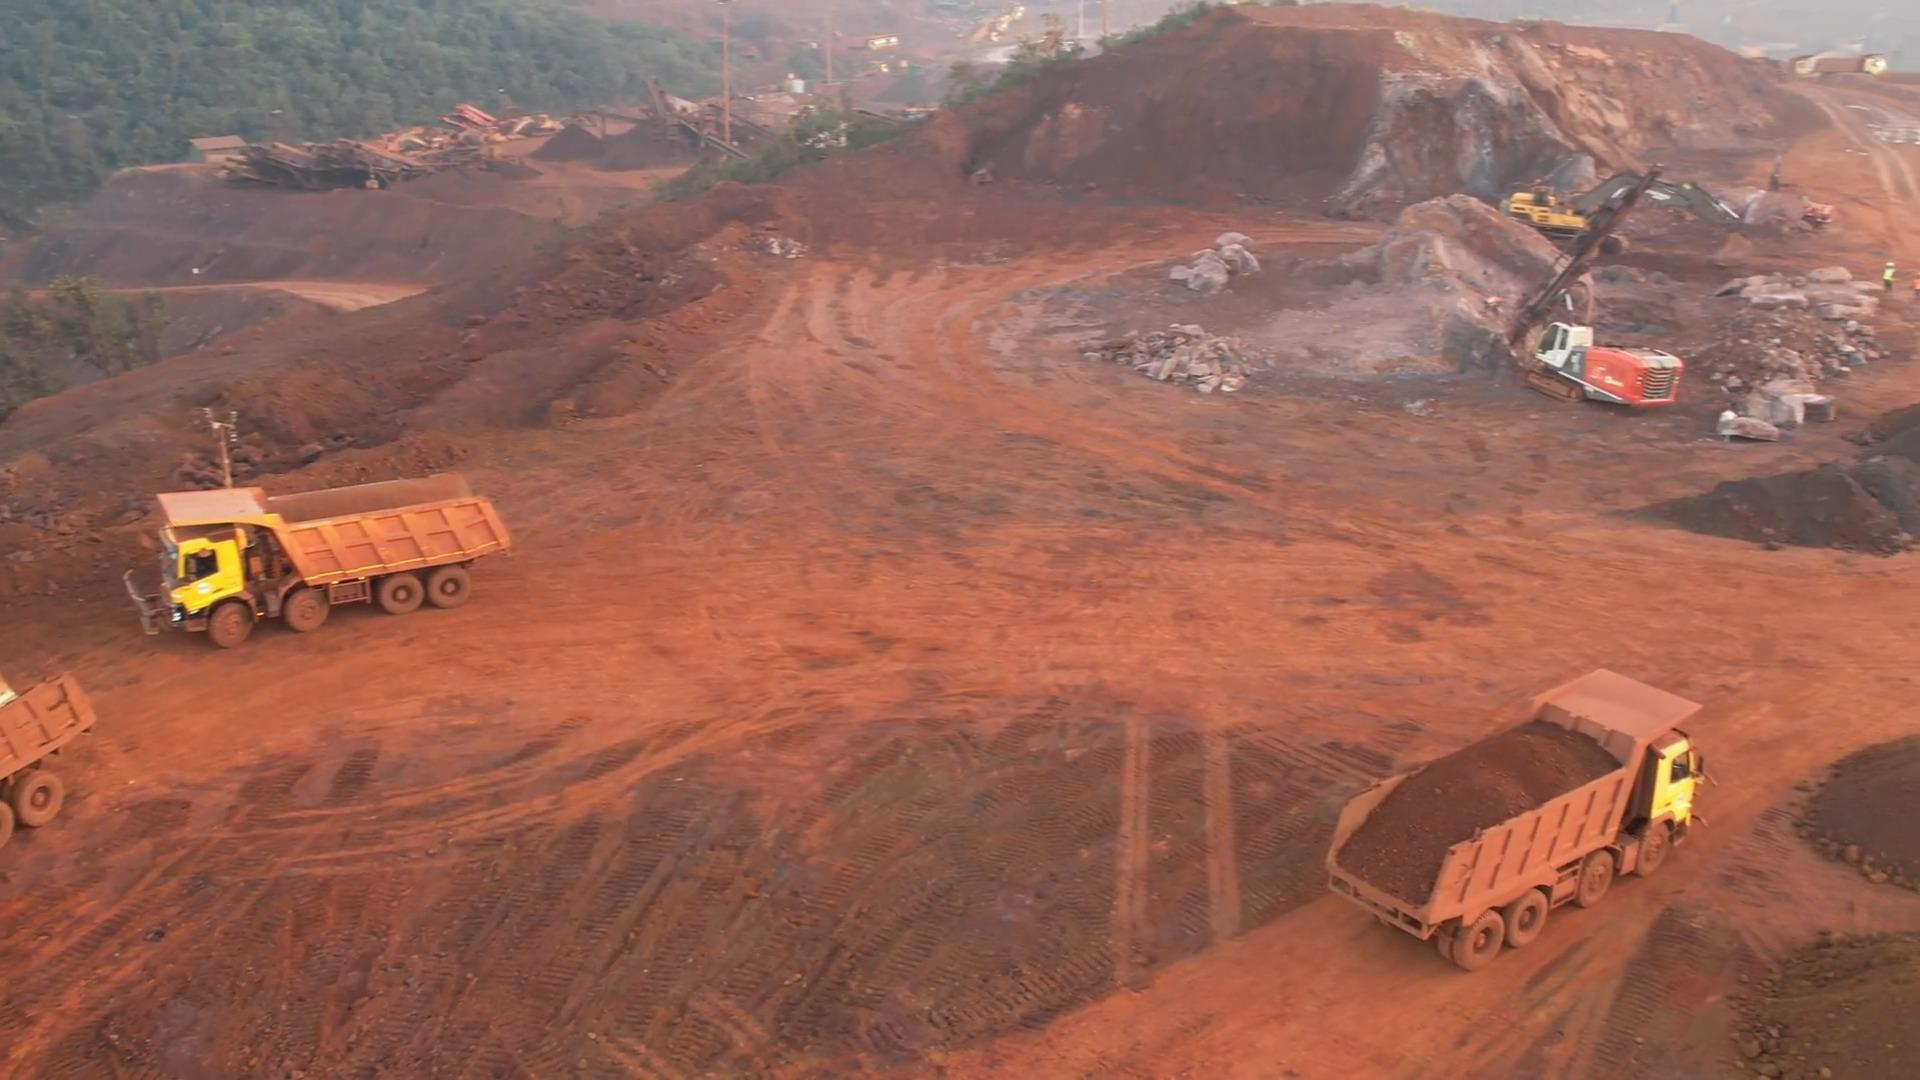excavator: (1519, 167, 1751, 245)
